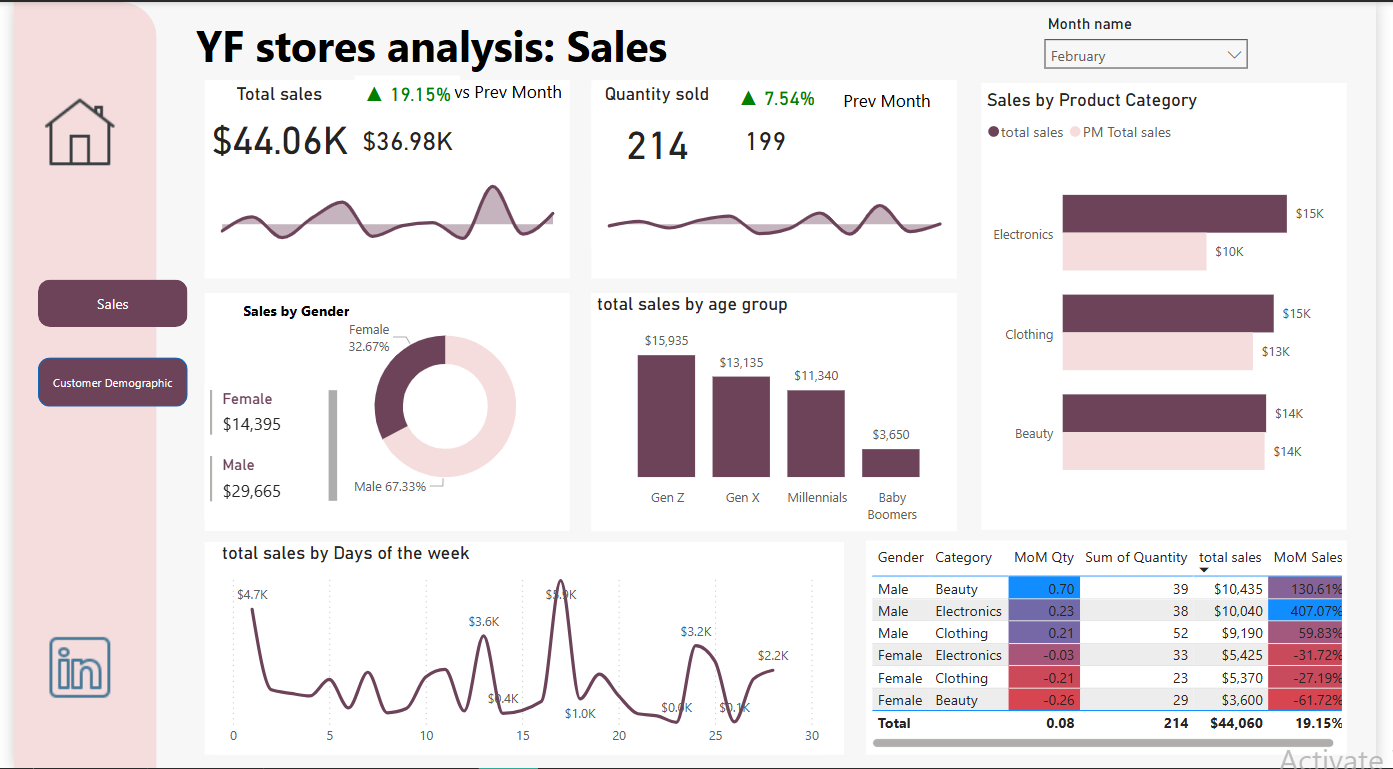

Layout of this report page (visuals, bound fields, positions):
{"tool":"powerbi","page":{"name":"Page 2","canvas":[1280,720],"ordinal":1},"visuals":[{"type":"shape","box":[0,0,134.2,720.5],"z":0},{"type":"shape","box":[178.9,73.5,343.5,186.9],"z":1000},{"type":"shape","box":[909.1,76.7,343.5,420.2],"z":2000},{"type":"shape","box":[543.2,273.2,343.5,223.7],"z":3000},{"type":"shape","box":[178.9,273.2,343.5,223.7],"z":4000},{"type":"shape","box":[178.7,507.3,601.1,199.9],"z":5000},{"type":"shape","box":[801,507.3,451.2,199.9],"z":6000},{"type":"card","title":"Total sales","fields":{"Values":["sales measures.total sales"]},"box":[178.9,76.7,140.6,81.5],"z":7000},{"type":"card","fields":{"Values":["sales measures.PM Total sales"]},"box":[319.5,108.6,99.1,41.5],"z":8000},{"type":"card","fields":{"Values":["sales measures.defect icons YOY"]},"box":[319.5,68.7,99.1,35.1],"z":9000},{"type":"shape","box":[405.8,63.9,116.6,39.9],"z":10000},{"type":"areaChart","fields":{"Category":["Date.Month name"],"Y":["sales measures.PM Sales Growth"]},"box":[178.9,158.2,343.5,75.1],"z":11000},{"type":"slicer","fields":{"Values":["Date.Month name"]},"box":[958.6,6.4,210.9,57.5],"z":12000},{"type":"shape","box":[543.2,73.5,343.5,186.9],"z":13000},{"type":"card","fields":{"Values":["quantity measures.quantity icon"]},"box":[666.2,73.5,99.1,35.1],"z":14000},{"type":"card","title":"Quantity sold","fields":{"Values":["quantity measures.Quantity sold"]},"box":[543.2,76.7,123,91.1],"z":15000},{"type":"card","fields":{"Values":["quantity measures.Prev month Quantity"]},"box":[656.6,108.6,97.5,41.5],"z":16000},{"type":"shape","box":[754.1,68.7,132.6,44.7],"z":17000},{"type":"areaChart","fields":{"Category":["Date.Month name"],"Y":["quantity measures.prev_month_quantity_growth"]},"box":[543.2,158.2,343.5,75.1],"z":18000},{"type":"donutChart","fields":{"Category":["retail_sales_dataset.Gender"],"Y":["sales measures.total sales"]},"box":[294,273.2,223.7,212.5],"z":19000},{"type":"multiRowCard","fields":{"Values":["retail_sales_dataset.Gender","sales measures.total sales"]},"box":[178.9,359.5,129.4,126.2],"z":20000},{"type":"columnChart","fields":{"Category":["retail_sales_dataset.age group"],"Y":["sales measures.total sales"]},"box":[543.2,273.2,343.5,223.7],"z":21000},{"type":"clusteredBarChart","title":"Sales by Product Category","fields":{"Category":["retail_sales_dataset.Product Category"],"Y":["sales measures.total sales","sales measures.PM Total sales"]},"box":[909.1,81.5,343.5,404.2],"z":22000},{"type":"lineChart","fields":{"Y":["sales measures.total sales"],"Category":["Date.Days of the week"]},"box":[190.8,507.3,573.9,199.9],"z":23000},{"type":"tableEx","fields":{"Values":["retail_sales_dataset.Gender","retail_sales_dataset.Product Category","quantity measures.prev_month_quantity_growth","Sum(retail_sales_dataset.Quantity)","sales measures.total sales","sales measures.PM Sales Growth"]},"box":[800.4,506.5,452.1,199.7],"z":24000},{"type":"shape","box":[100.7,11.2,584.7,57.5],"z":25000},{"type":"image","box":[22.4,580,78.3,92.7],"z":26000},{"type":"shape","box":[22.4,260.4,140.6,44.7],"z":27000},{"type":"shape","box":[22.4,333.9,140.6,46.3],"z":28000},{"type":"image","box":[22.4,76.7,78.3,94.3],"z":29000},{"type":"shape","box":[178.9,273.2,172.5,32],"z":30000}]}

Visuals, with their boxes on the page's 1280x720 design canvas (x1, y1, x2, y2). These are canvas units, not pixel positions in the 1393x769 screenshot, which may show the page scaled, cropped or inside an application window:
shape: bbox=[0, 0, 134, 720]
shape: bbox=[179, 74, 522, 260]
shape: bbox=[909, 77, 1253, 497]
shape: bbox=[543, 273, 887, 497]
shape: bbox=[179, 273, 522, 497]
shape: bbox=[179, 507, 780, 707]
shape: bbox=[801, 507, 1252, 707]
"Total sales" card: bbox=[179, 77, 320, 158]
card - sales measures.PM Total sales: bbox=[320, 109, 419, 150]
card - sales measures.defect icons YOY: bbox=[320, 69, 419, 104]
shape: bbox=[406, 64, 522, 104]
areaChart - Date.Month name x sales measures.PM Sales Growth: bbox=[179, 158, 522, 233]
slicer - Date.Month name: bbox=[959, 6, 1170, 64]
shape: bbox=[543, 74, 887, 260]
card - quantity measures.quantity icon: bbox=[666, 74, 765, 109]
"Quantity sold" card: bbox=[543, 77, 666, 168]
card - quantity measures.Prev month Quantity: bbox=[657, 109, 754, 150]
shape: bbox=[754, 69, 887, 113]
areaChart - Date.Month name x quantity measures.prev_month_quantity_growth: bbox=[543, 158, 887, 233]
donutChart - retail_sales_dataset.Gender x sales measures.total sales: bbox=[294, 273, 518, 486]
multiRowCard - retail_sales_dataset.Gender x sales measures.total sales: bbox=[179, 360, 308, 486]
columnChart - retail_sales_dataset.age group x sales measures.total sales: bbox=[543, 273, 887, 497]
"Sales by Product Category" clusteredBarChart: bbox=[909, 82, 1253, 486]
lineChart - sales measures.total sales x Date.Days of the week: bbox=[191, 507, 765, 707]
tableEx - retail_sales_dataset.Gender x retail_sales_dataset.Product Category: bbox=[800, 506, 1252, 706]
shape: bbox=[101, 11, 685, 69]
image: bbox=[22, 580, 101, 673]
shape: bbox=[22, 260, 163, 305]
shape: bbox=[22, 334, 163, 380]
image: bbox=[22, 77, 101, 171]
shape: bbox=[179, 273, 351, 305]
